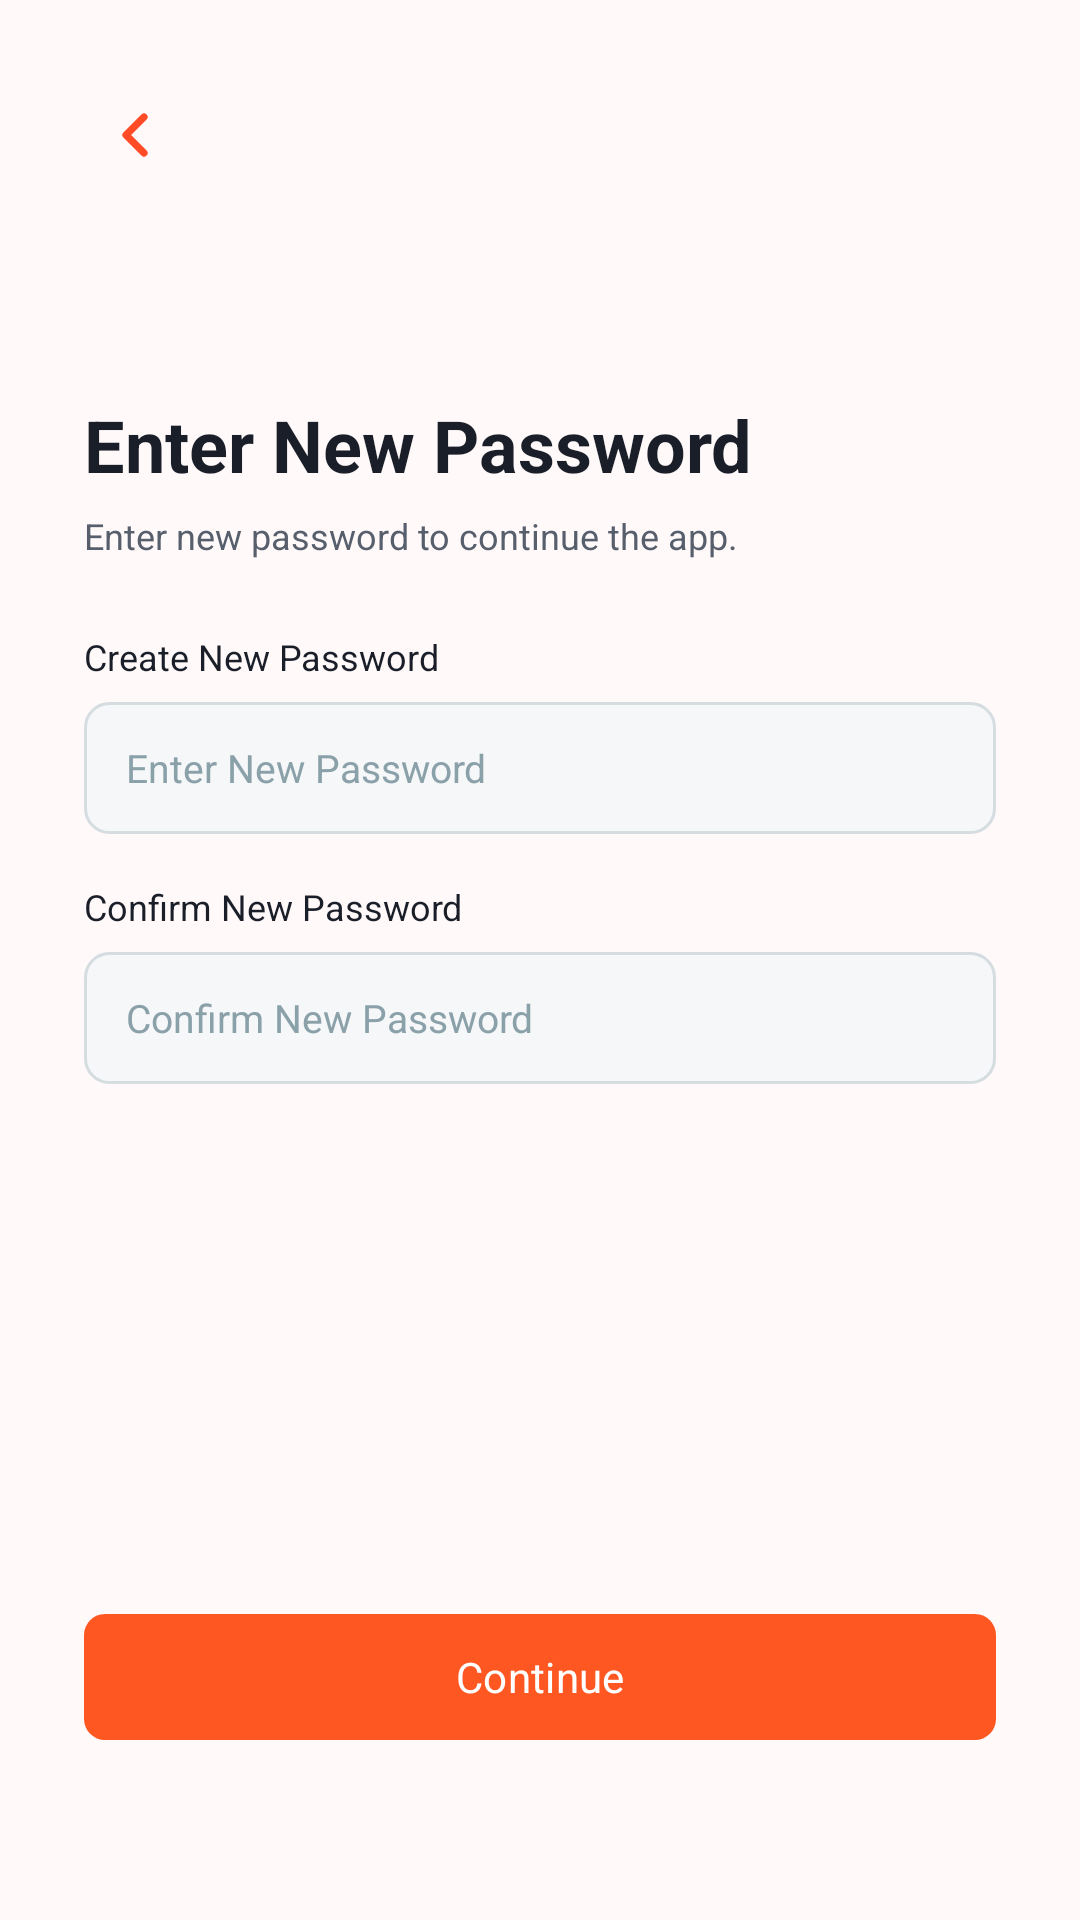

Point at icon controls on the screen. Image size 1080px×1920px, points as (x,y).
Kembali: (135,135)
